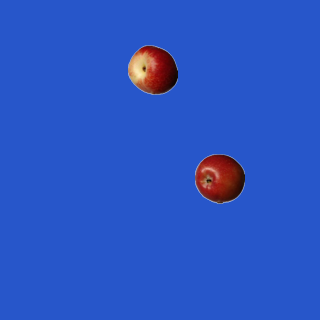Apple Braeburn: (194, 153, 244, 203)
Nectarine: (127, 44, 177, 94)
